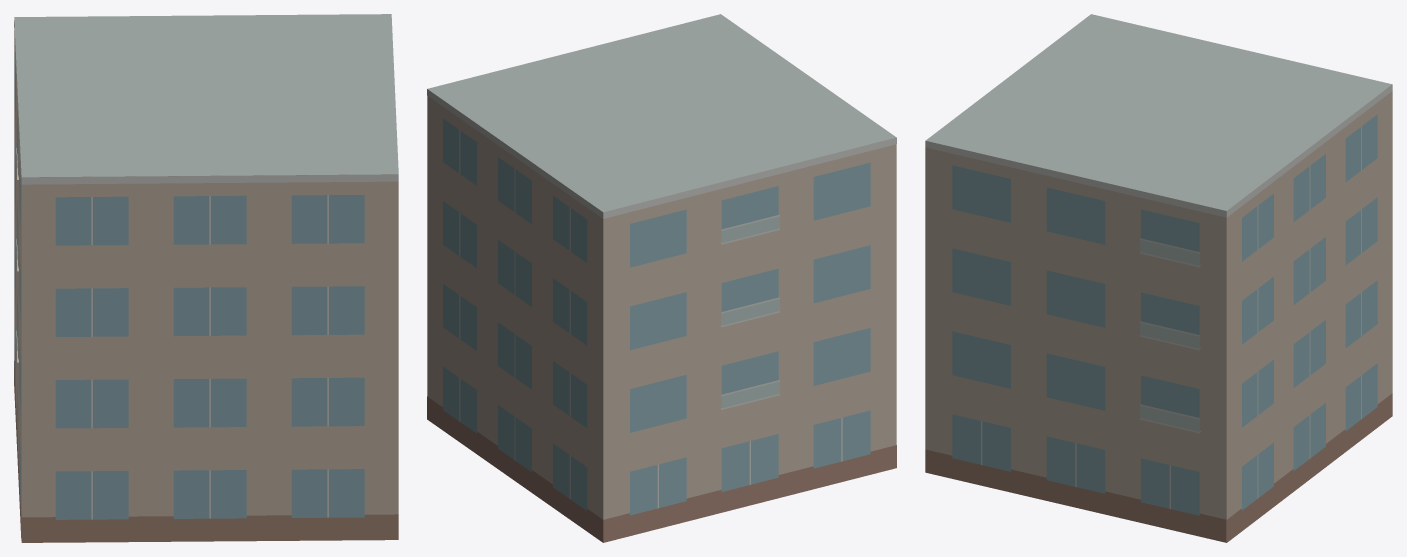
The model's file is residential-810e0c8c-a888-4dc1-9f05-571c3ee11fd9.glb.
3 views of the same model, side by side, from view 1: azimuth 30°, elevation 25°; view 2: azimuth 150°, elevation 25°; view 3: azimuth 270°, elevation 25° (orthographic). The views are drawn at different scales.
Parts seen in each view (by area): view 1: residential-810e0c8c-a888-4dc1-9f05-571c3ee11fd9.tmp; view 2: residential-810e0c8c-a888-4dc1-9f05-571c3ee11fd9.tmp; view 3: residential-810e0c8c-a888-4dc1-9f05-571c3ee11fd9.tmp.
Boxes of the visible parts, bbox=[...] form: residential-810e0c8c-a888-4dc1-9f05-571c3ee11fd9.tmp: bbox=[14, 14, 398, 542]; residential-810e0c8c-a888-4dc1-9f05-571c3ee11fd9.tmp: bbox=[427, 14, 896, 542]; residential-810e0c8c-a888-4dc1-9f05-571c3ee11fd9.tmp: bbox=[925, 14, 1392, 542].
Bounding box in the file's own units: 15.54 × 12.2 × 15.57.
